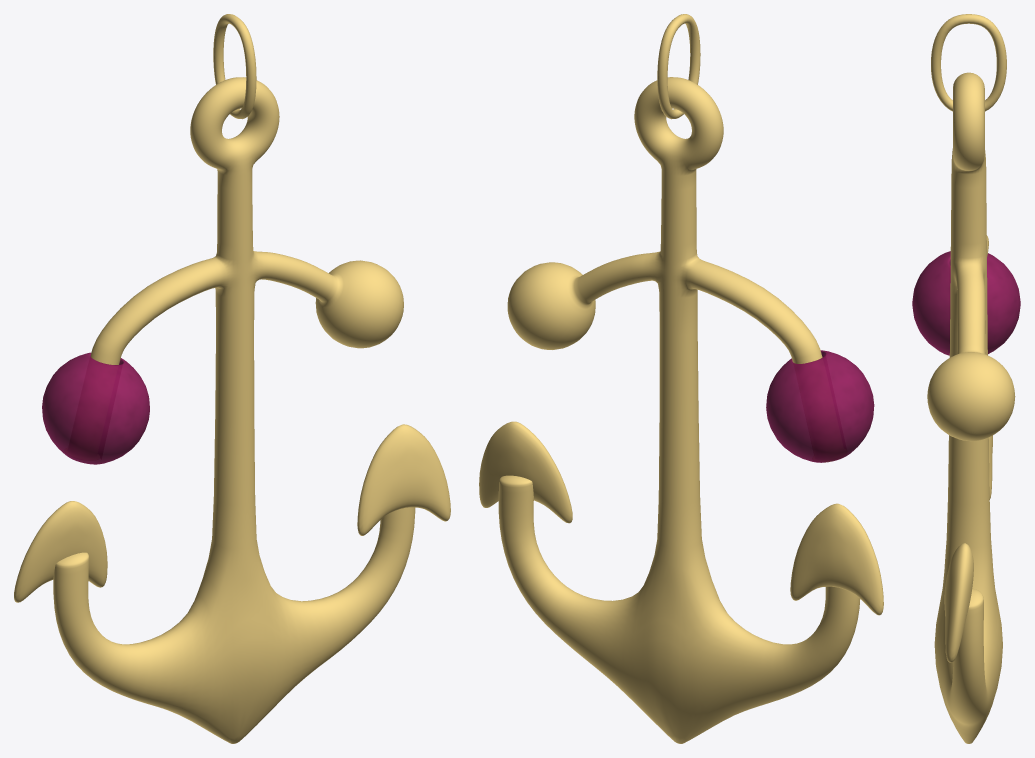
File: anchor.glb
The picture shows the model from 3 angles, left to right: view 1: azimuth 30°, elevation 25°; view 2: azimuth 150°, elevation 25°; view 3: azimuth 270°, elevation 25°; orthographic projection.
Parts seen in each view (by area): view 1: anchor_gold, anchor_stone; view 2: anchor_gold, anchor_stone; view 3: anchor_gold, anchor_stone.
Part boxes in pixels (left/top/right/bottom): anchor_gold: left=14, top=14, right=450, bottom=743; anchor_stone: left=42, top=352, right=149, bottom=464; anchor_gold: left=479, top=14, right=883, bottom=743; anchor_stone: left=766, top=350, right=874, bottom=462; anchor_gold: left=927, top=14, right=1015, bottom=743; anchor_stone: left=912, top=251, right=1020, bottom=355.
Bounding box in the file's own units: 0.0112 × 0.0185 × 0.0025.
2 materials, 1 textured.
